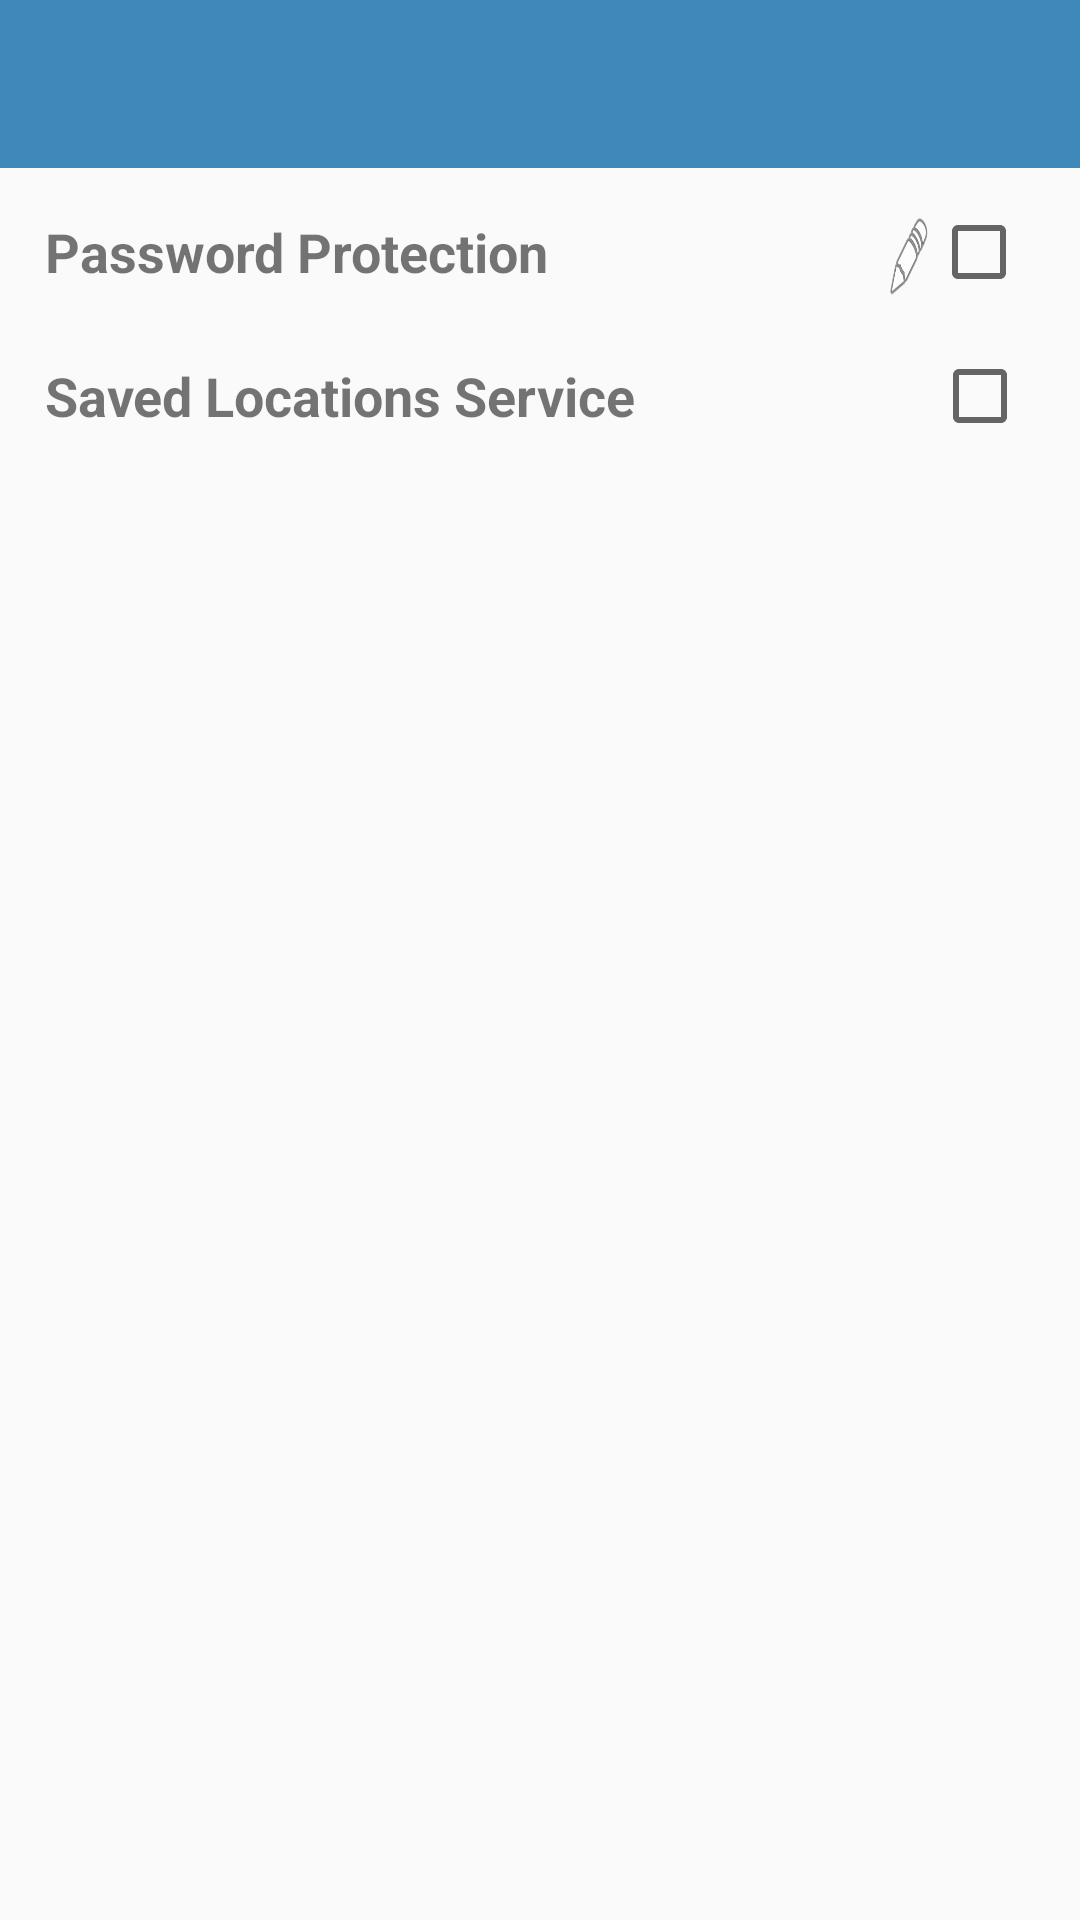

Screen size 1080w x 1920h. Icon name, then its box in pixels as (left=x1, top=y1, right=x2, bottom=y2):
edit: (left=890, top=218, right=927, bottom=294)
